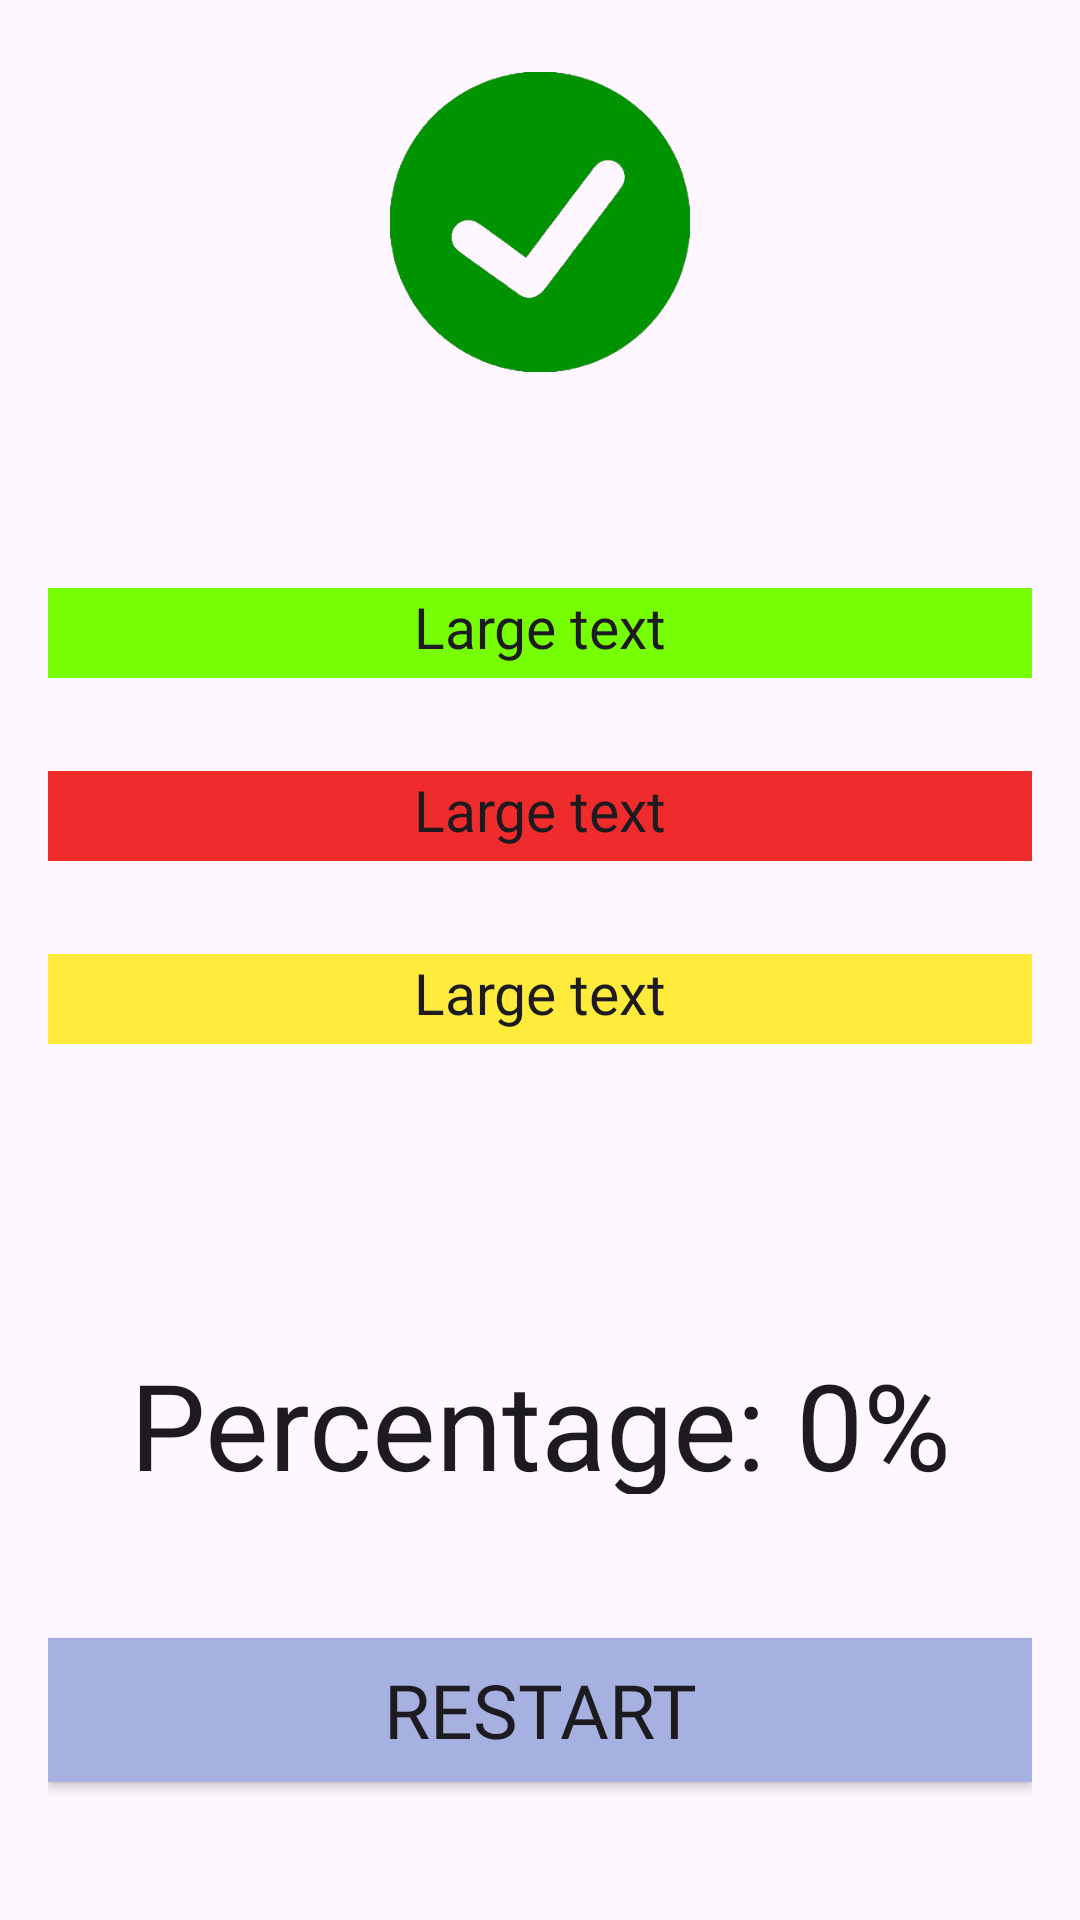

Named icons in this screenshot (1080 x 1920) and their bounding boxes, (x1, y1, x2, y2):
markk: (390, 72, 690, 372)
